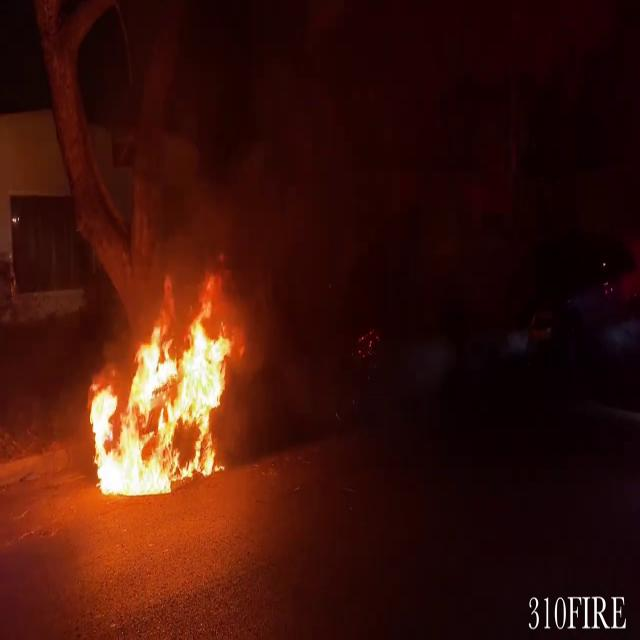Fire: (83, 262, 243, 500)
Smoke: (105, 1, 382, 286)
